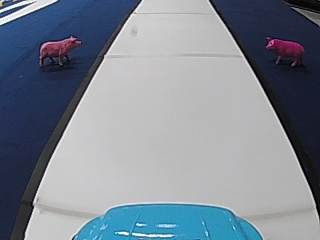pig: (37, 33, 81, 67), (263, 33, 306, 66)
